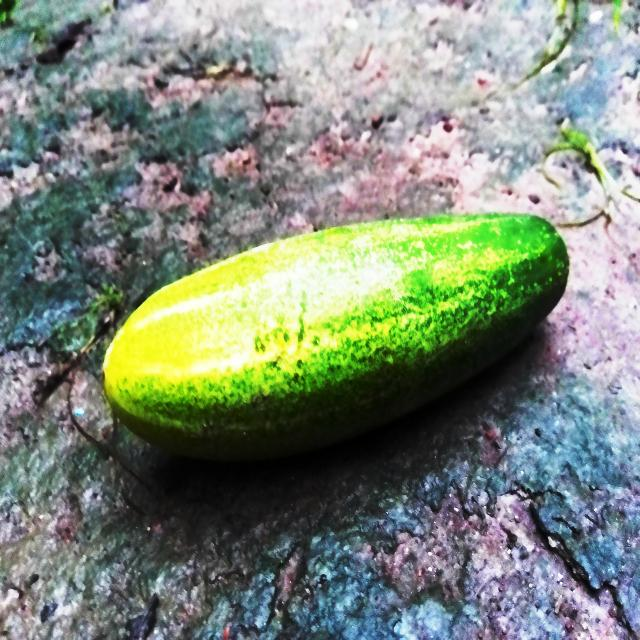Fresh-Cucumber: (100, 207, 572, 459)
